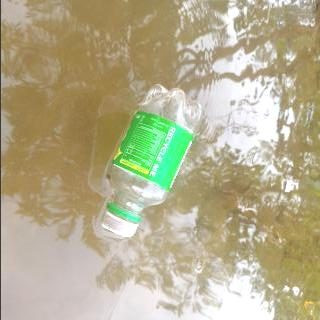bottle: (99, 83, 202, 239)
